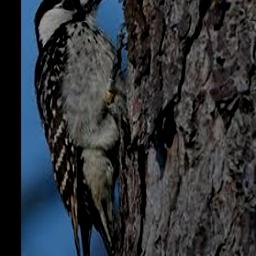Woodpecker: (33, 0, 151, 256)
